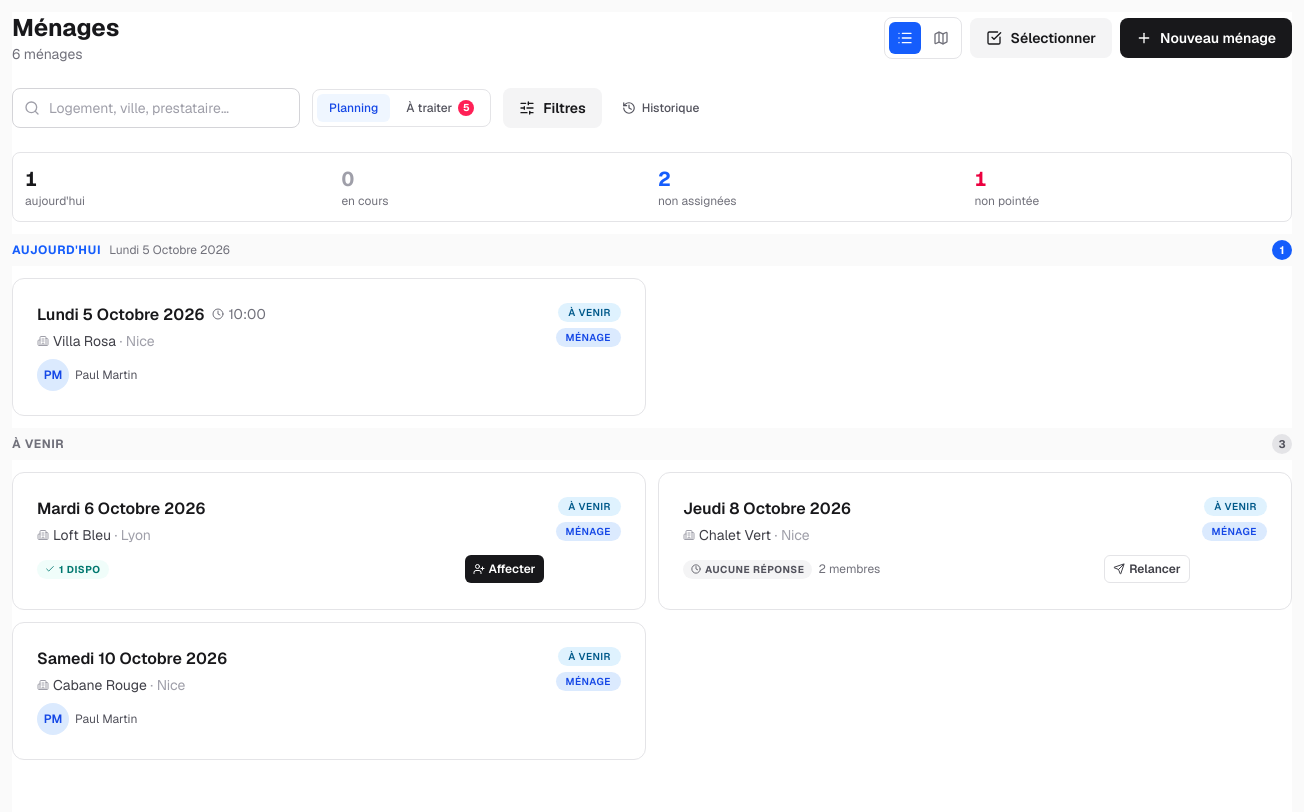
Test: Liste des prestations — vue À traiter › « Non pointé » remplace le statut sur une prestation dont le jour est passé sans arrivée
Expected: the heading "Aujourd'hui" is shown, [12, 242, 101, 258]
Click the button "À traiter 5". click: {"x": 440, "y": 108}
box: [394, 94, 486, 122]
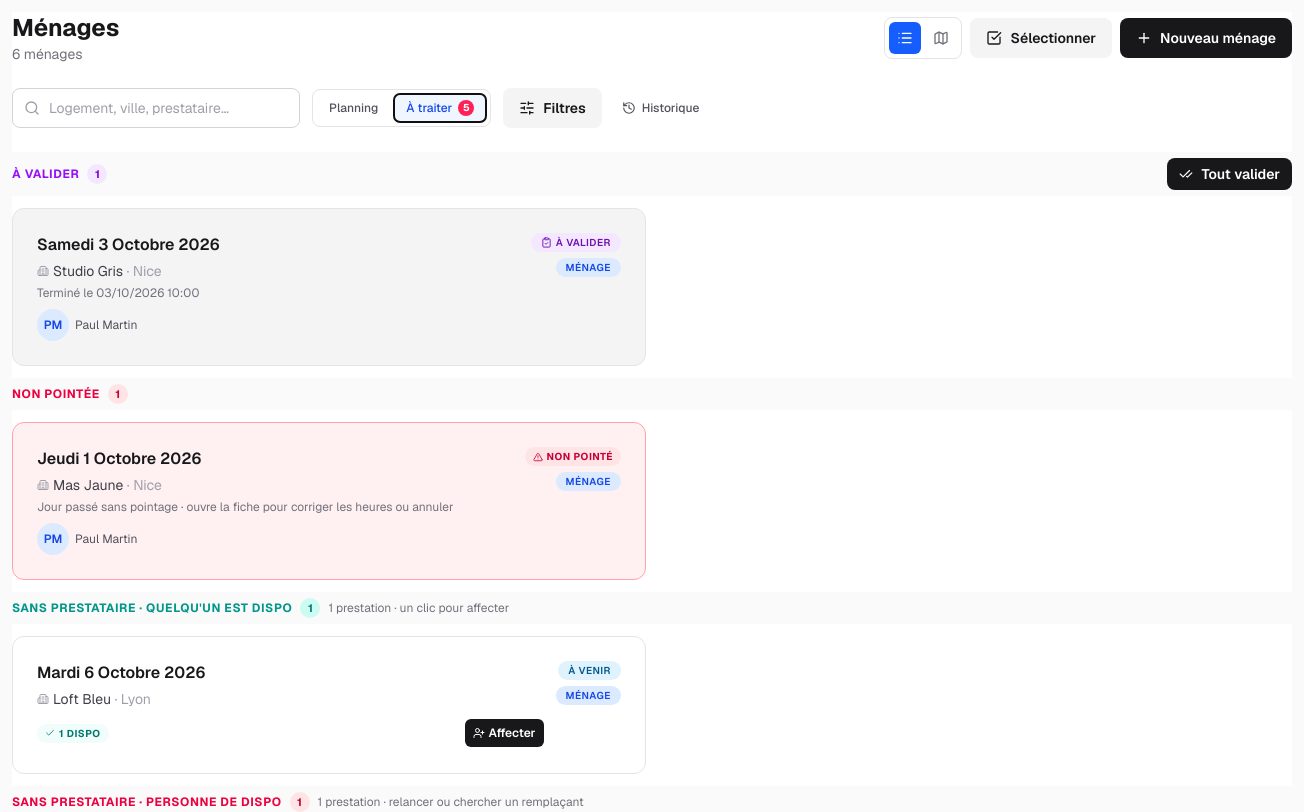
Expected: the text "Non pointé" is shown, [524, 447, 621, 466]
Expected: the text "Jour passé sans pointage" is shown, [37, 499, 454, 515]
